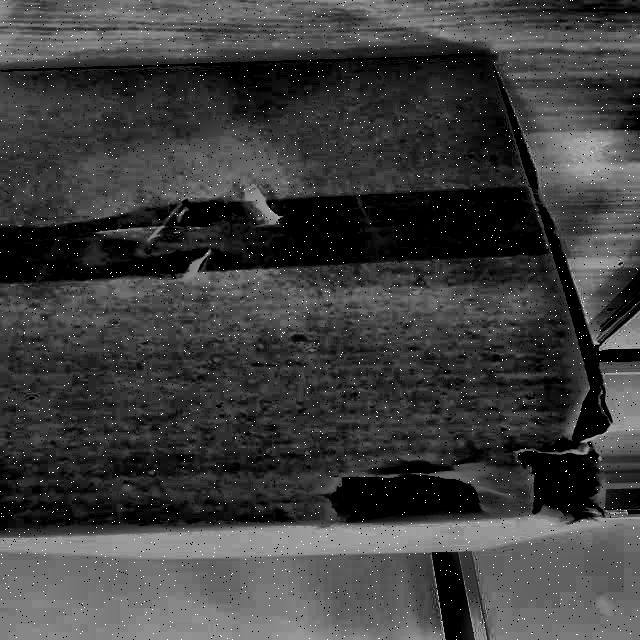box: (1, 35, 633, 559)
hole: (317, 466, 497, 532), (510, 445, 602, 523)
